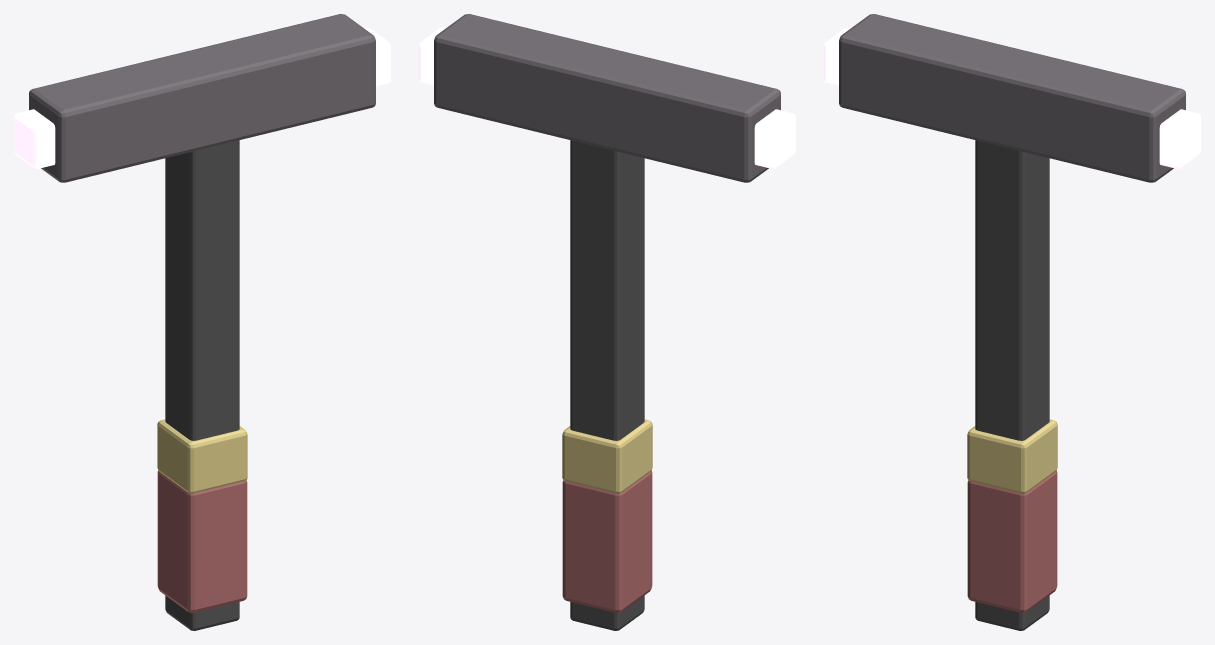
The model's file is weapon_cinderbloom_pickaxe.glb.
The picture shows the model from 3 angles, left to right: view 1: azimuth 30°, elevation 25°; view 2: azimuth 150°, elevation 25°; view 3: azimuth 330°, elevation 25°; orthographic projection.
Parts seen in each view (by area): view 1: Pick_head, Haft, Grip_wrap, Gold_band, Ember_bot, Ember_top; view 2: Pick_head, Haft, Grip_wrap, Gold_band, Ember_bot, Ember_top; view 3: Pick_head, Haft, Grip_wrap, Gold_band, Ember_top, Ember_bot.
Part boxes in pixels (<box>): Pick_head: <box>29,14,375,182</box>; Haft: <box>165,140,239,630</box>; Grip_wrap: <box>157,470,247,612</box>; Gold_band: <box>157,419,247,493</box>; Ember_bot: <box>14,109,55,168</box>; Ember_top: <box>364,28,390,86</box>; Pick_head: <box>434,14,780,182</box>; Haft: <box>570,140,644,630</box>; Grip_wrap: <box>562,470,652,612</box>; Gold_band: <box>562,419,652,493</box>; Ember_bot: <box>754,109,795,168</box>; Ember_top: <box>419,28,445,86</box>; Pick_head: <box>839,14,1185,182</box>; Haft: <box>975,140,1049,630</box>; Grip_wrap: <box>967,470,1057,612</box>; Gold_band: <box>967,419,1057,493</box>; Ember_top: <box>1159,109,1200,168</box>; Ember_bot: <box>824,28,850,86</box>.
Bounding box in the file's own units: 0.36 × 0.535 × 0.06.
